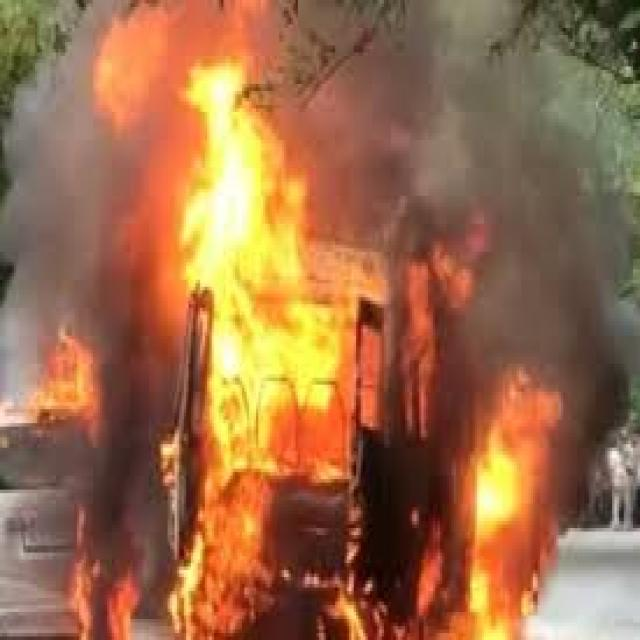fire: (184, 63, 349, 483), (465, 384, 567, 640), (408, 217, 487, 444), (163, 482, 279, 636), (37, 328, 105, 434), (67, 556, 142, 640), (323, 591, 368, 640)
smoke: (452, 46, 633, 423), (2, 3, 149, 336)
